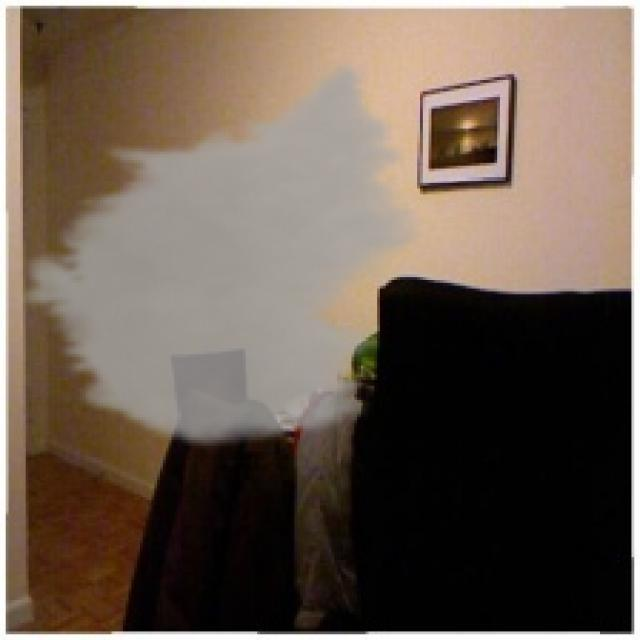Smoke: (12, 59, 434, 452)
